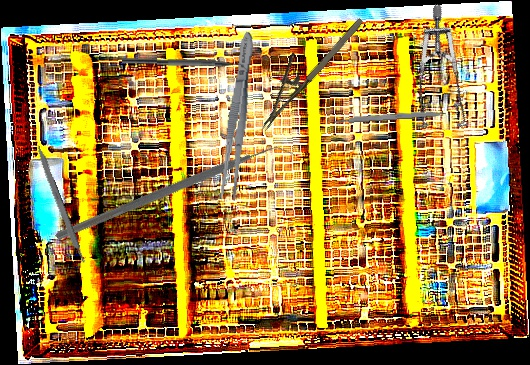Chopper: (54, 68, 297, 324), (121, 57, 251, 75)
Dressing Forceps: (216, 30, 260, 203)
Needle Holder: (239, 1, 368, 132)
Scalpel Handle: (33, 143, 87, 267), (333, 109, 447, 124)
Speculum: (378, 2, 513, 148)
